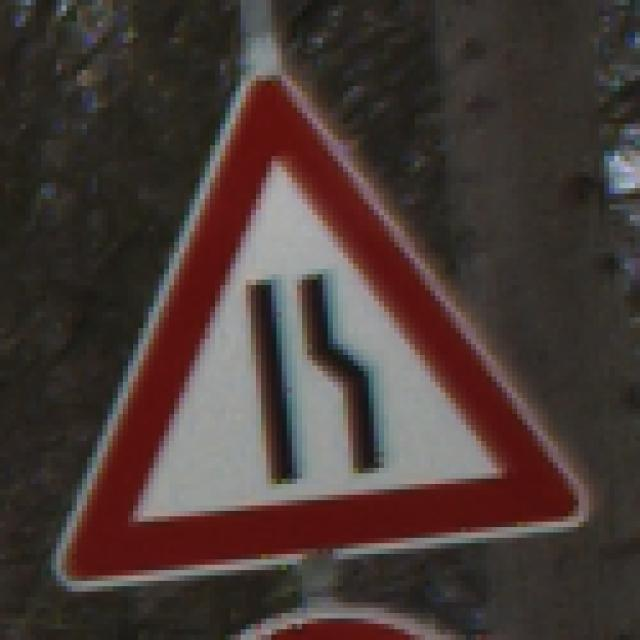narrow road ahead: (62, 71, 583, 594)
